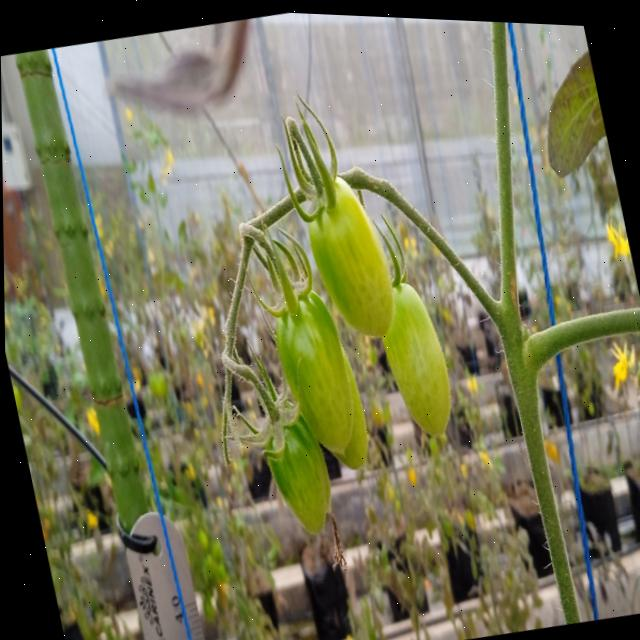fine: (297, 171, 405, 345)
unripe: (292, 171, 407, 349), (266, 283, 374, 468), (382, 271, 464, 449), (251, 409, 334, 533)
